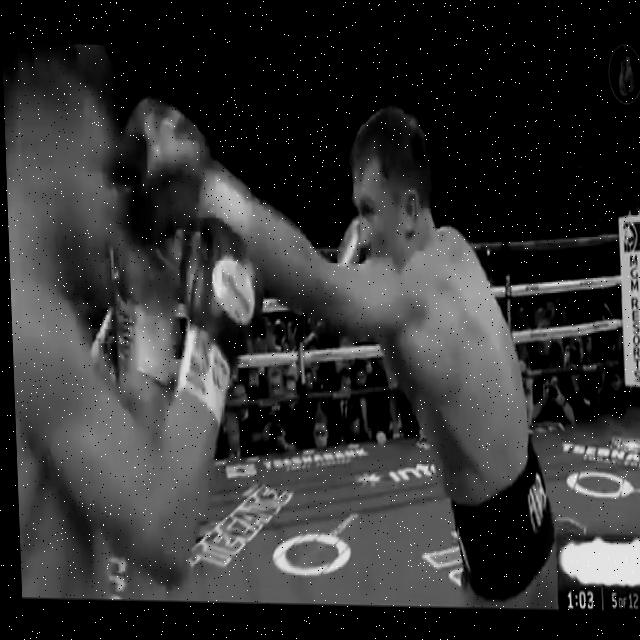Jab: (113, 81, 495, 424)
